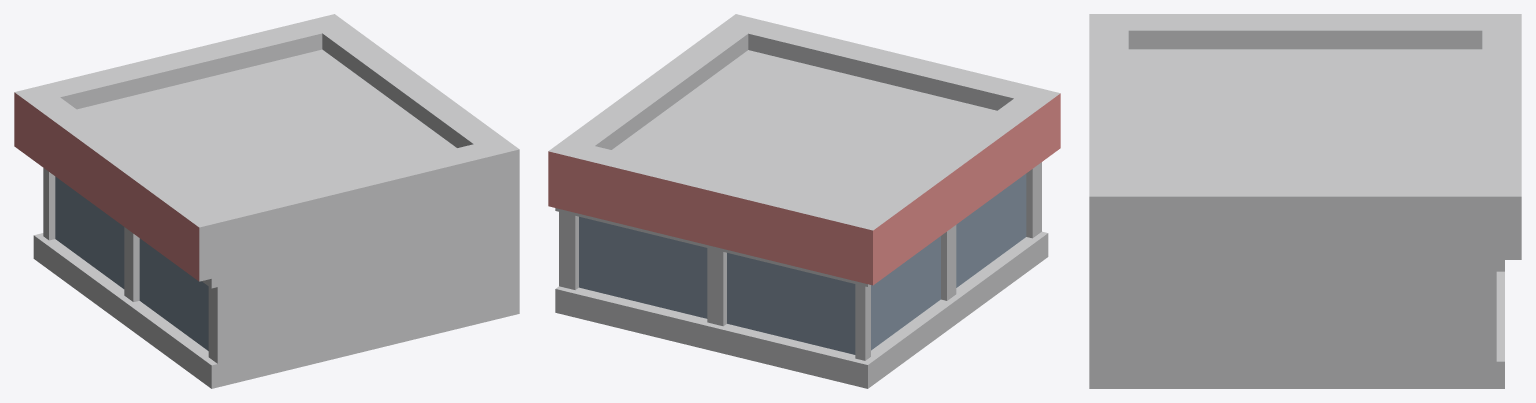
Rendered from pitsOfficeCorner.gltf.
3 renders of one model, left to right at view 1: azimuth 30°, elevation 25°; view 2: azimuth 150°, elevation 25°; view 3: azimuth 270°, elevation 25°, orthographic. The views are drawn at different scales.
Visible parts, largest first — view 1: pitsOfficeCorner; view 2: pitsOfficeCorner; view 3: pitsOfficeCorner.
Part boxes in pixels (<box>): pitsOfficeCorner: <box>14,14,519,388</box>; pitsOfficeCorner: <box>548,14,1060,388</box>; pitsOfficeCorner: <box>1089,14,1521,388</box>.
Size of the model in its own units: 10.4 by 5.1 by 10.4.
